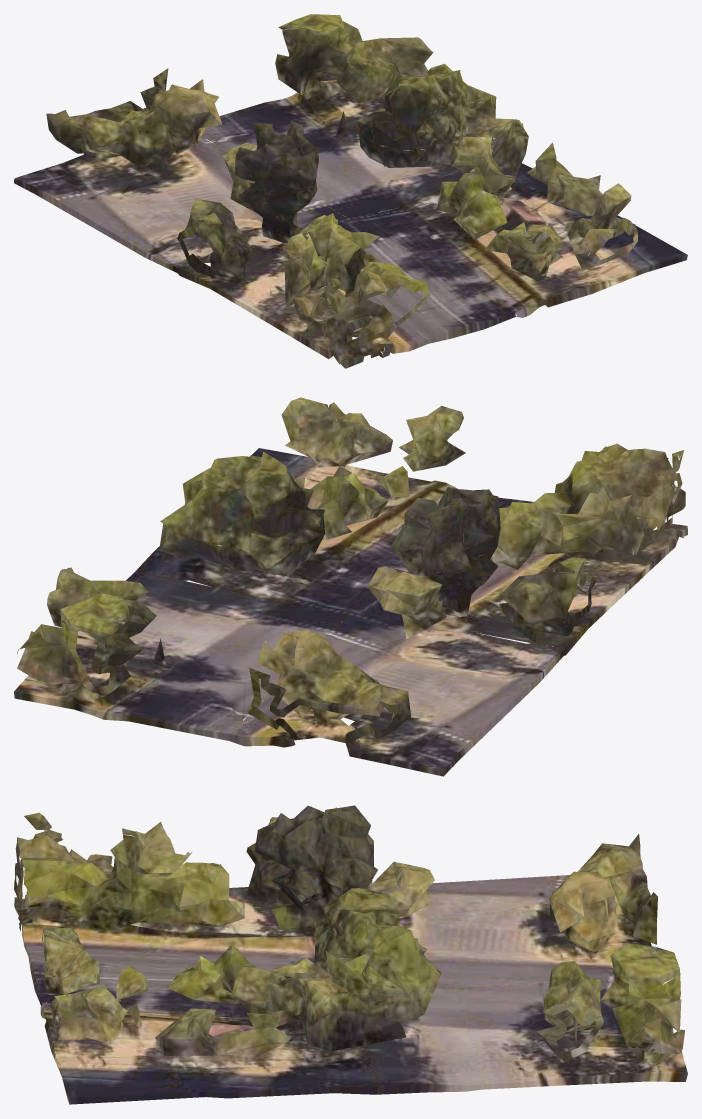
3 views of the same model, one above another, from view 1: azimuth 30°, elevation 25°; view 2: azimuth 150°, elevation 25°; view 3: azimuth 270°, elevation 25° (orthographic). The views are drawn at different scales.
Visible parts, largest first — view 1: Mesh_0; view 2: Mesh_0; view 3: Mesh_0.
Boxes of the visible parts, bbox=[...] form: Mesh_0: bbox=[14, 14, 687, 368]; Mesh_0: bbox=[14, 397, 687, 776]; Mesh_0: bbox=[14, 805, 687, 1104].
Bounding box in the file's own units: 66.58 × 20.71 × 82.58.
Materials: 2 (2 with a texture image).
